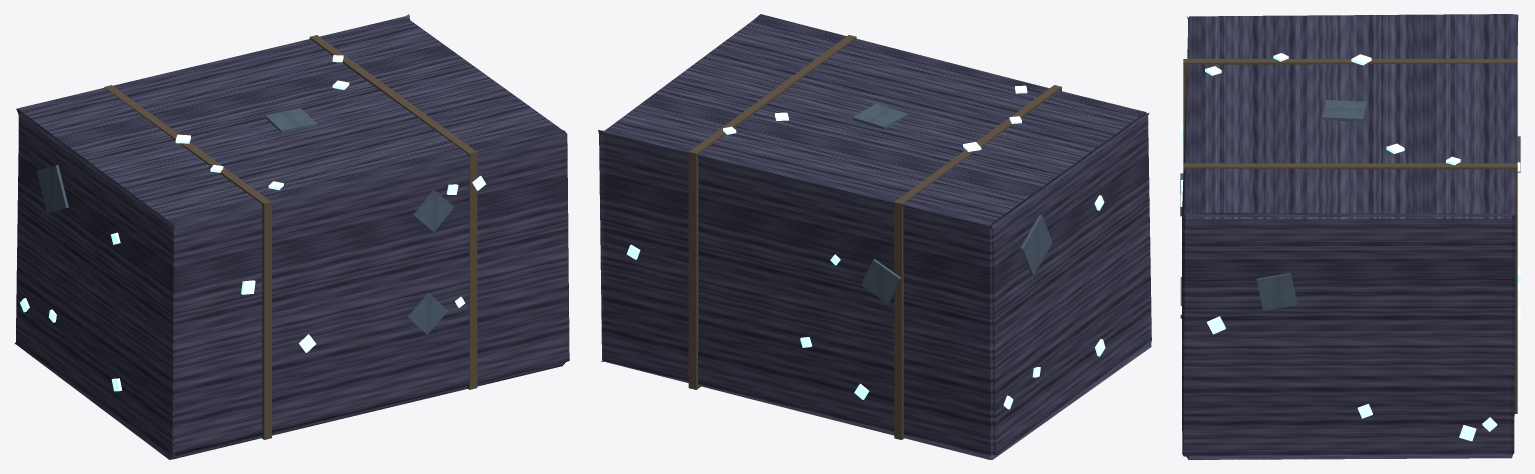
The model's file is bale_star.glb.
3 views of the same model, side by side, from view 1: azimuth 30°, elevation 25°; view 2: azimuth 150°, elevation 25°; view 3: azimuth 270°, elevation 25° (orthographic). The views are drawn at different scales.
Parts seen in each view (by area): view 1: BaleStar; view 2: BaleStar; view 3: BaleStar.
Boxes of the visible parts, x1,y1,x2,y2 form: BaleStar: (14,14,569,459); BaleStar: (598,14,1151,459); BaleStar: (1180,14,1520,459).
Size of the model in its own units: 1.31 by 0.7479 by 0.9206.
Materials: 4 (2 with a texture image).
